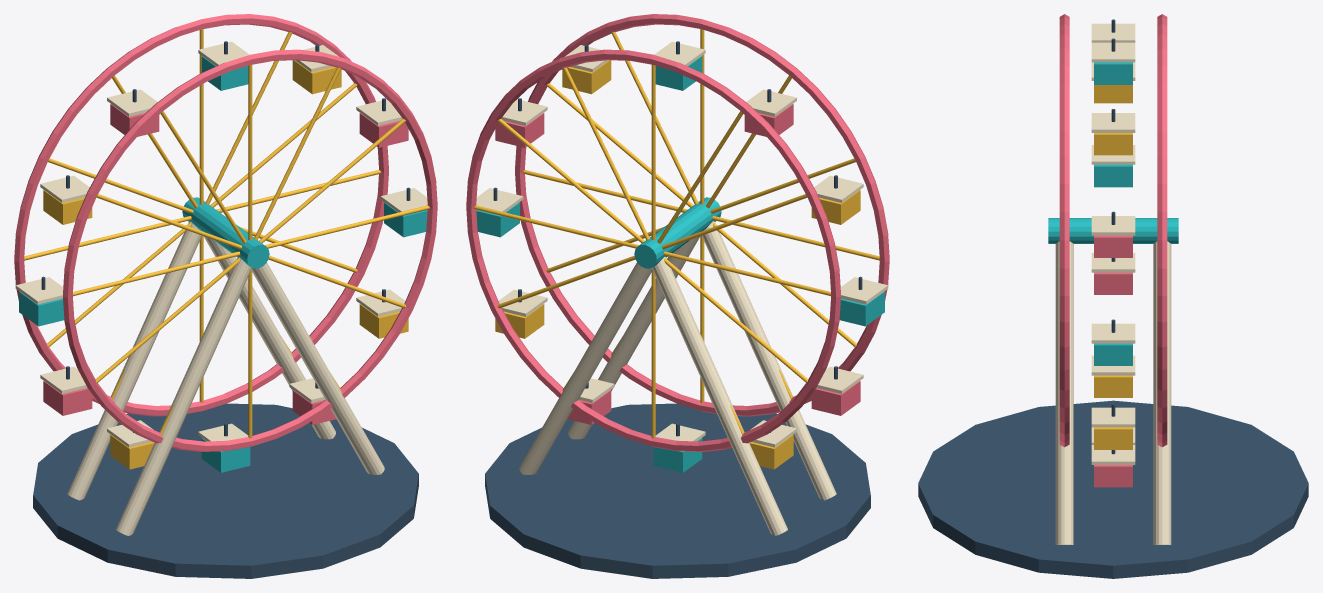
File: ferris.glb
3 renders of one model, left to right at view 1: azimuth 30°, elevation 25°; view 2: azimuth 150°, elevation 25°; view 3: azimuth 270°, elevation 25°, orthographic.
Visible parts, largest first — view 1: ferris_midnight steel, ferris_sunset coral, ferris_warm ivory, ferris_marigold, ferris_lagoon turquoise; view 2: ferris_midnight steel, ferris_sunset coral, ferris_warm ivory, ferris_marigold, ferris_lagoon turquoise; view 3: ferris_midnight steel, ferris_warm ivory, ferris_sunset coral, ferris_lagoon turquoise, ferris_marigold.
Boxes of the visible parts, box(x1,y1,x2,y2) form: ferris_midnight steel: box(33, 41, 418, 578); ferris_sunset coral: box(14, 14, 437, 451); ferris_warm ivory: box(15, 41, 427, 535); ferris_marigold: box(24, 29, 429, 469); ferris_lagoon turquoise: box(19, 56, 427, 472); ferris_midnight steel: box(485, 41, 870, 578); ferris_sunset coral: box(466, 14, 889, 451); ferris_warm ivory: box(476, 41, 888, 535); ferris_marigold: box(474, 29, 879, 469); ferris_lagoon turquoise: box(476, 56, 884, 472); ferris_midnight steel: box(918, 19, 1308, 578); ferris_warm ivory: box(1055, 23, 1171, 544); ferris_sunset coral: box(1059, 14, 1167, 487); ferris_lagoon turquoise: box(1048, 62, 1178, 365); ferris_marigold: box(1094, 85, 1132, 449).
Size of the model in its own units: 28.4 by 31.35 by 24.
